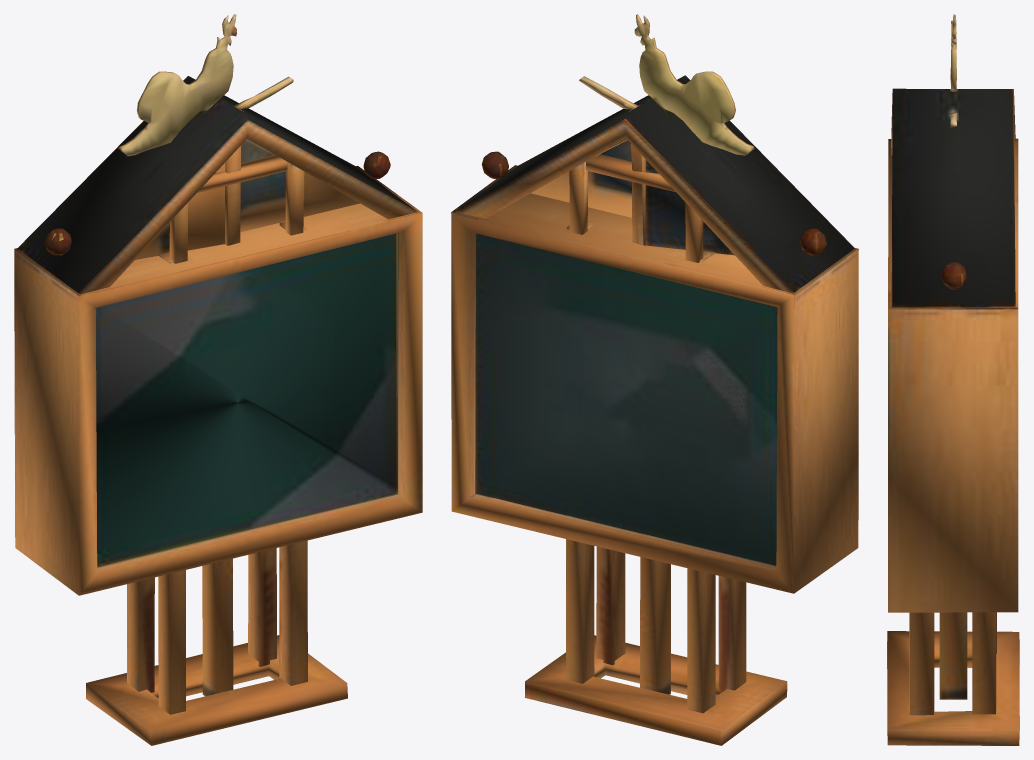
File: forecast-board.glb
3 views of the same model, side by side, from view 1: azimuth 30°, elevation 25°; view 2: azimuth 150°, elevation 25°; view 3: azimuth 270°, elevation 25° (orthographic).
Parts seen in each view (by area): view 1: forecast-board, vane; view 2: forecast-board, vane; view 3: forecast-board, vane.
Part boxes in pixels (x1,y1,x2,y2): forecast-board: (14,76,422,745); vane: (118,14,293,156); forecast-board: (451,75,858,745); vane: (579,14,754,155); forecast-board: (887,88,1019,745); vane: (950,14,957,127).
Bounding box in the file's own units: 0.952 × 1.8 × 0.3144.
Materials: 1 (1 with a texture image).
